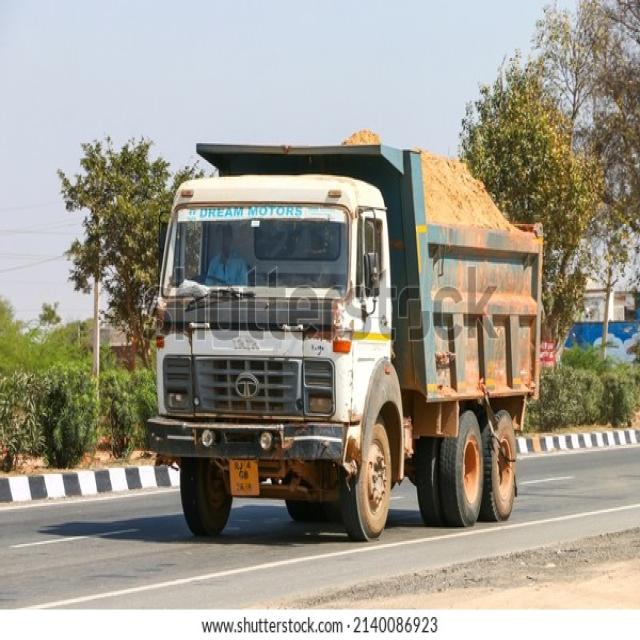truck: (149, 145, 542, 538)
